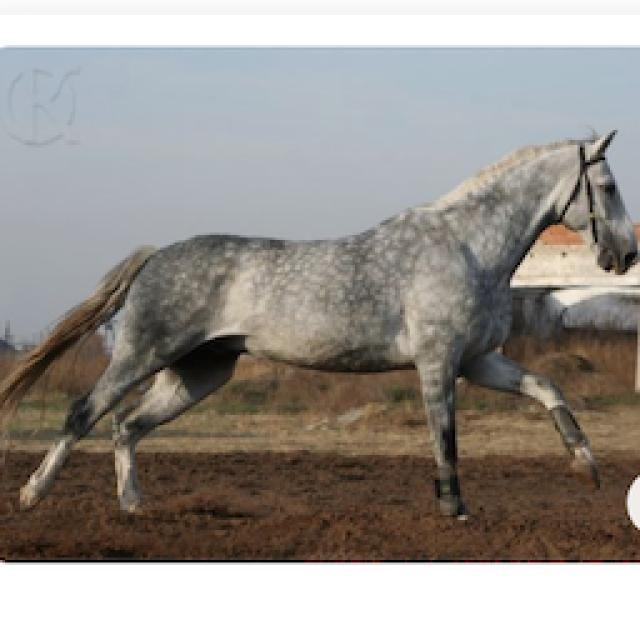Horse: (0, 122, 638, 526)
